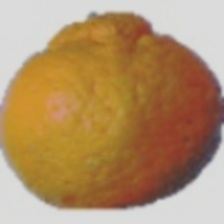tangerine: (31, 20, 210, 176)
